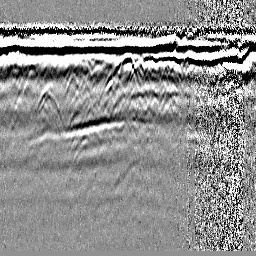cavity: (115, 52, 141, 91)
